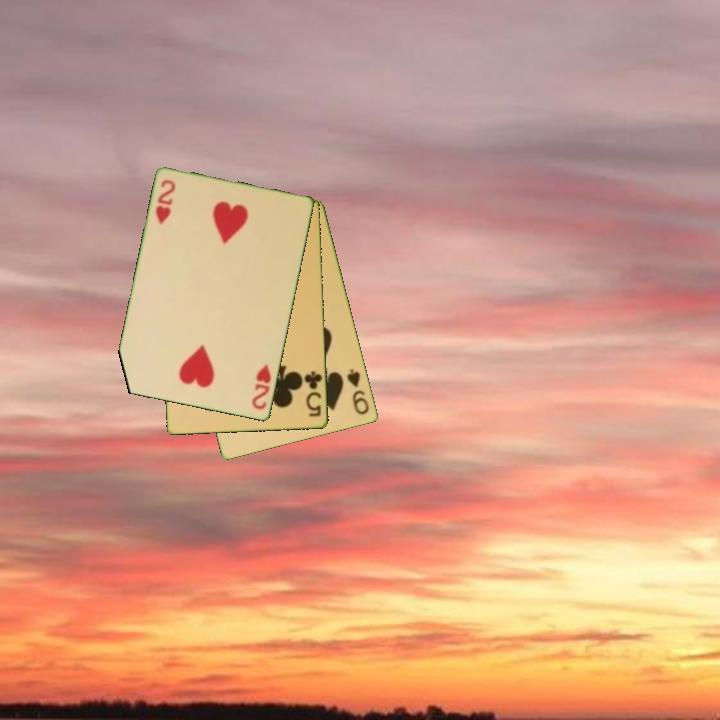2h: (152, 176, 179, 228), (248, 361, 274, 413)
5c: (301, 368, 325, 420)
9s: (343, 365, 372, 418)
